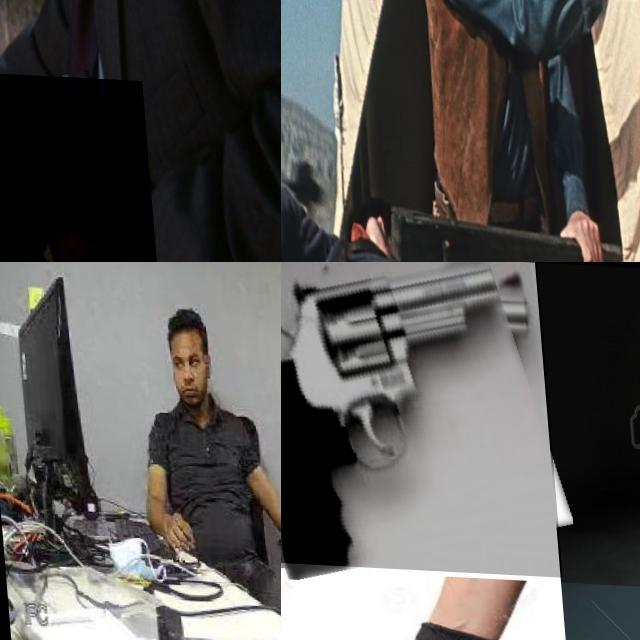gun-knife-thesis - v11 Yolov5 augmented: (281, 262, 557, 574), (0, 66, 158, 262)
